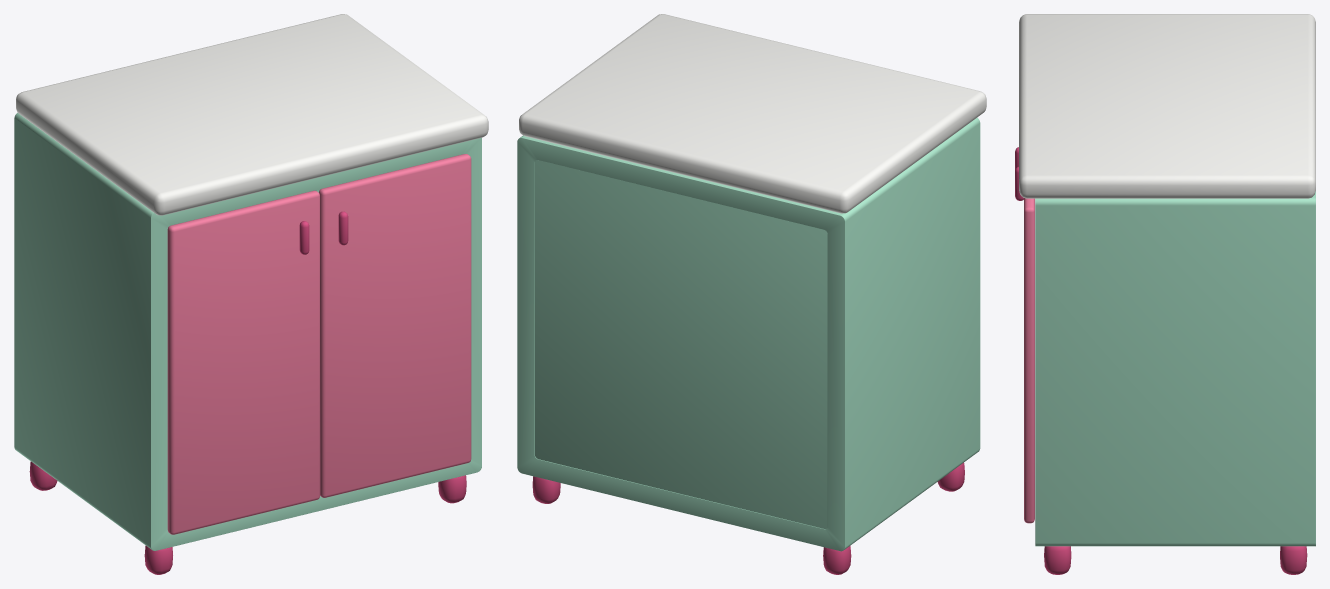
Rendered from armario_cozinha_base_2portas_moderna_menta.glb.
3 views of the same model, side by side, from view 1: azimuth 30°, elevation 25°; view 2: azimuth 150°, elevation 25°; view 3: azimuth 270°, elevation 25° (orthographic). The views are drawn at different scales.
Visible parts, largest first — view 1: armario_cozinha_base_2portas_moderna_menta, porta_1, porta_2; view 2: armario_cozinha_base_2portas_moderna_menta; view 3: armario_cozinha_base_2portas_moderna_menta, porta_2.
Part boxes in pixels (x1,y1,x2,y2): armario_cozinha_base_2portas_moderna_menta: (14, 14, 488, 574); porta_1: (167, 190, 319, 534); porta_2: (319, 154, 471, 497); armario_cozinha_base_2portas_moderna_menta: (517, 14, 986, 574); armario_cozinha_base_2portas_moderna_menta: (1019, 14, 1315, 574); porta_2: (1015, 166, 1034, 523).
Size of the model in its own units: 0.798 by 0.9 by 0.607.
1 material, 1 textured.
